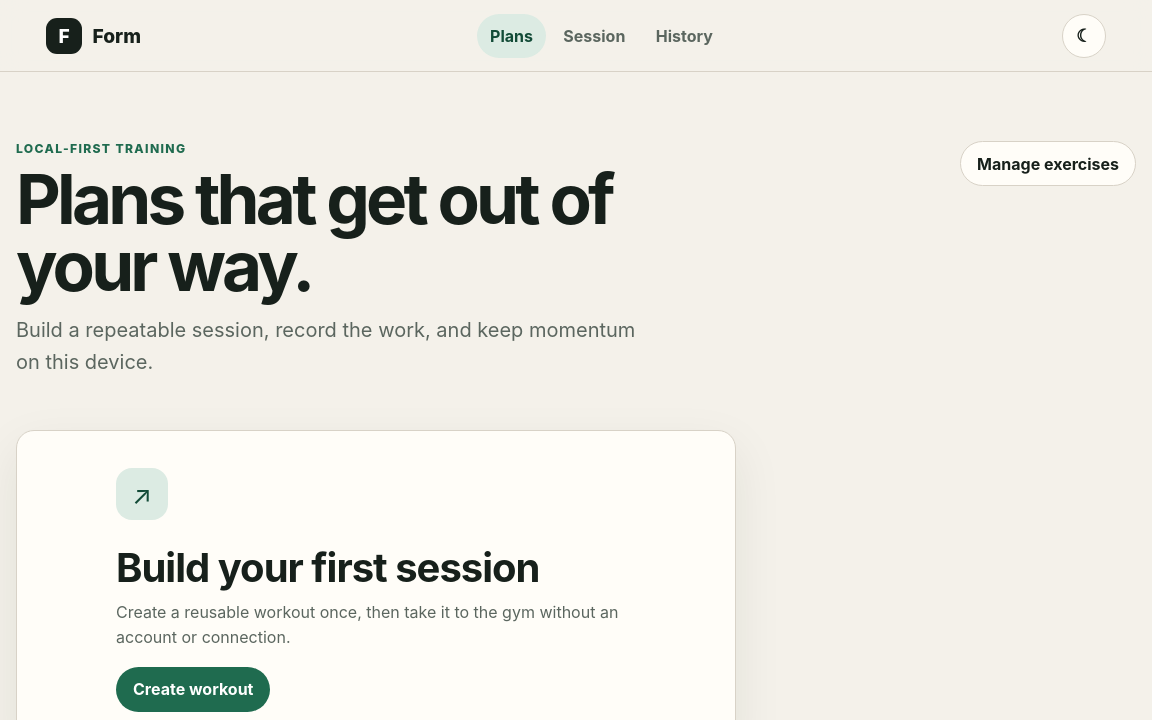
Plans — US1: Plan a workout › [T018] plank shows duration input not reps input
Expected: the heading "Build your first session" is shown, [116, 542, 540, 592]
Click the button "Create workout" at (193,689), box [116, 667, 270, 712]
(page scrolled)
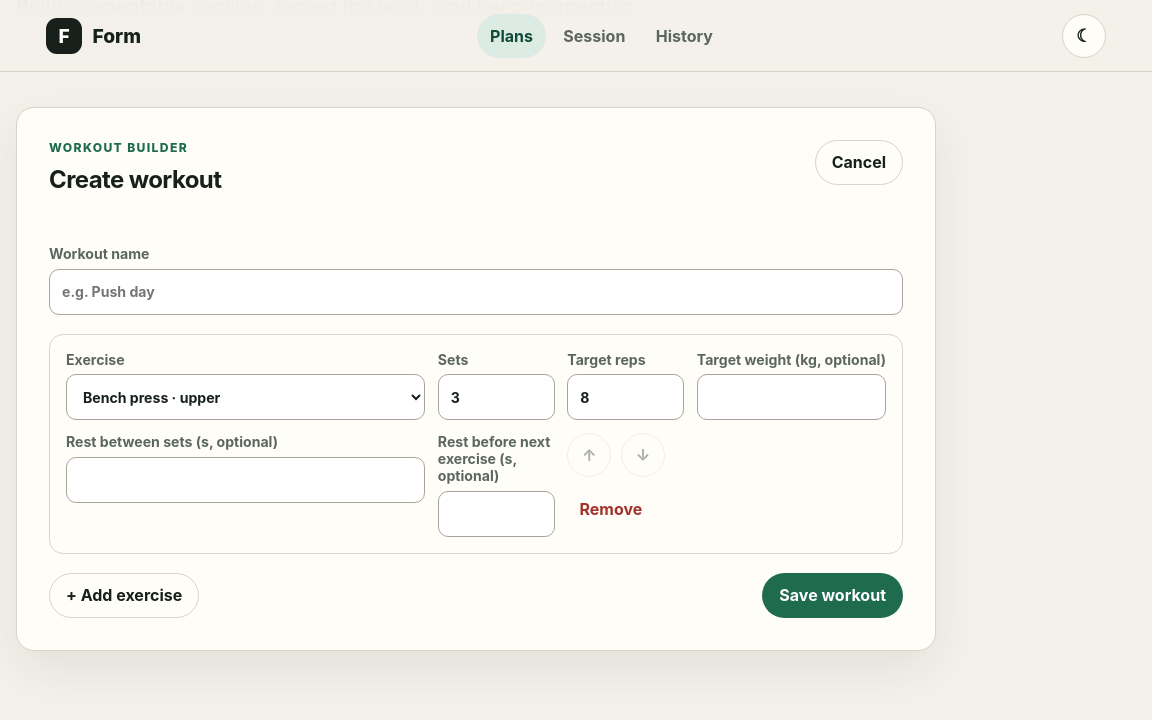
Note: Change exercise to plank
Select "Plank · core" in the dropdown labelled "Exercise" at (246,397), box [66, 374, 425, 420]
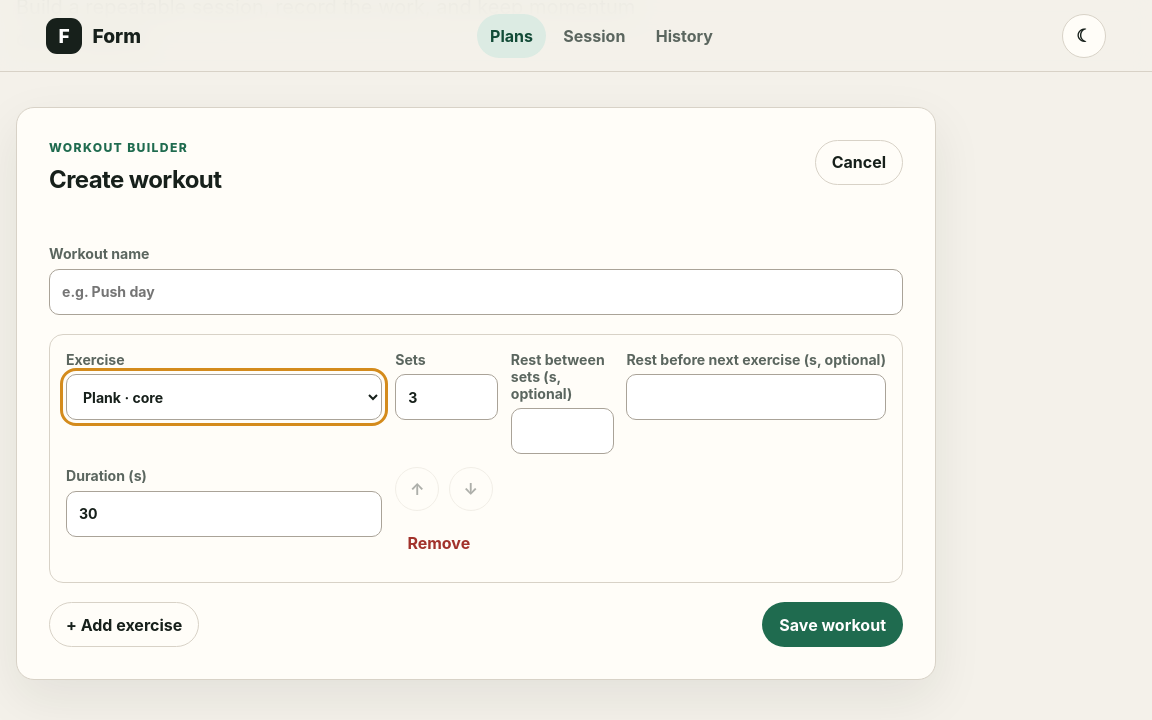
Now the number field labelled "Duration (s)" is shown
Now the text labelled "Target reps" is gone
Note: Enter duration and save
Replace the text in the number field labelled "Duration (s)" with "60" at (224,514), box [66, 491, 382, 537]
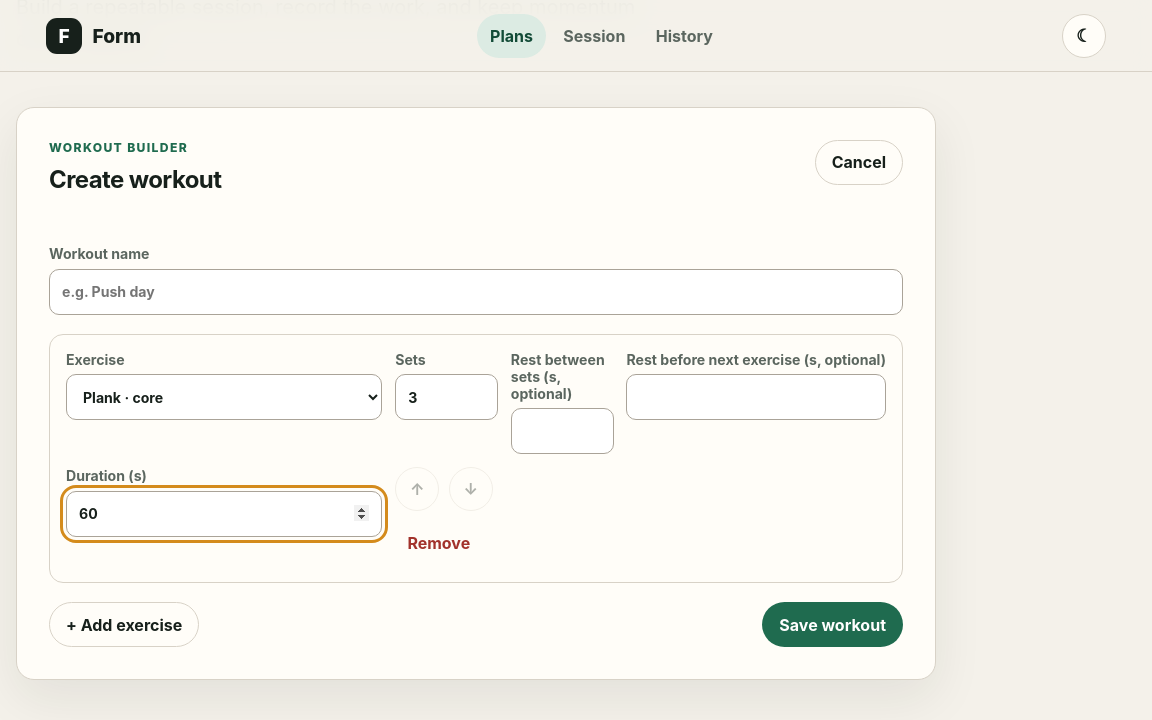
Type "Core day" into the field with placeholder "e.g. Push day" at (476,292), box [49, 269, 903, 315]
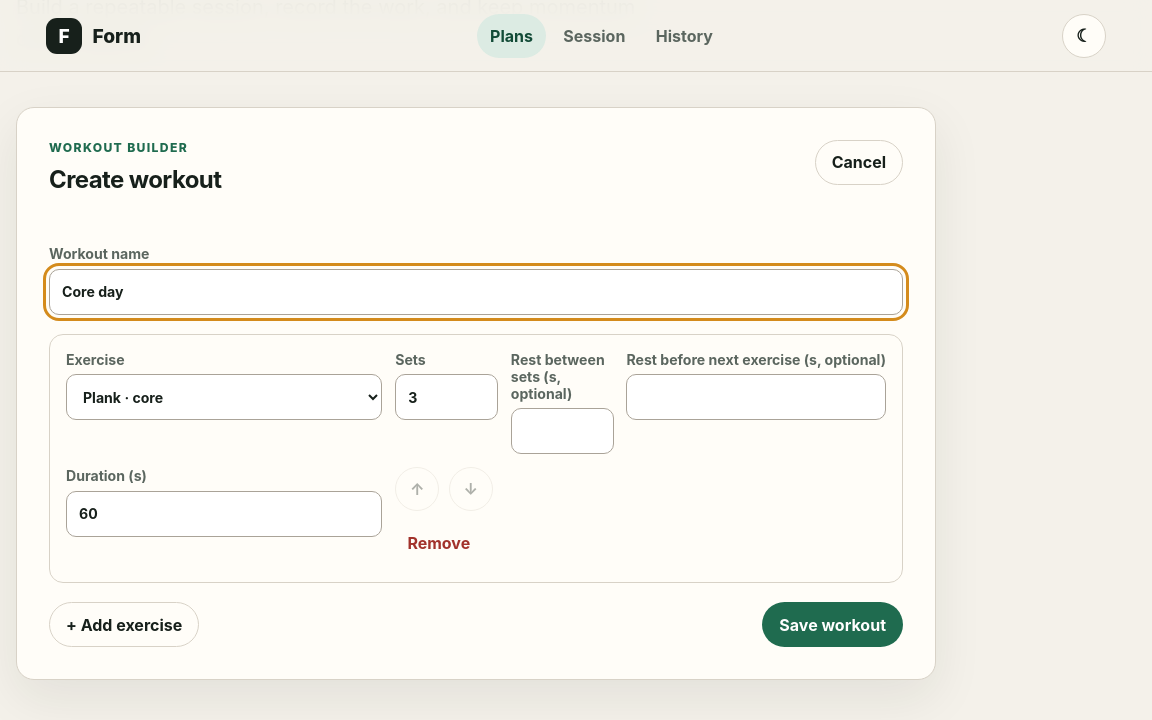
Click the button "Save workout" at (833,624), box [762, 602, 903, 647]
(page scrolled)
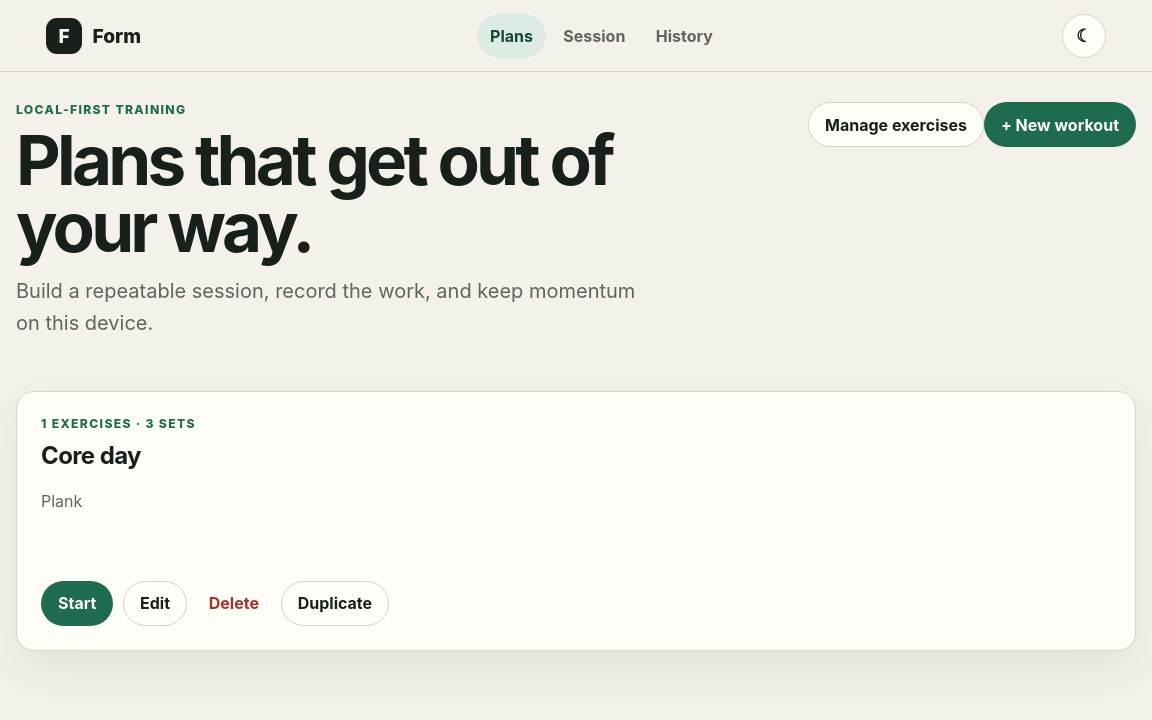
Now the heading "Core day" is shown, box [41, 441, 141, 470]
Note: Edit and verify duration persists
Click the button "Edit" at (155,603), box [123, 581, 187, 626]
(page scrolled)
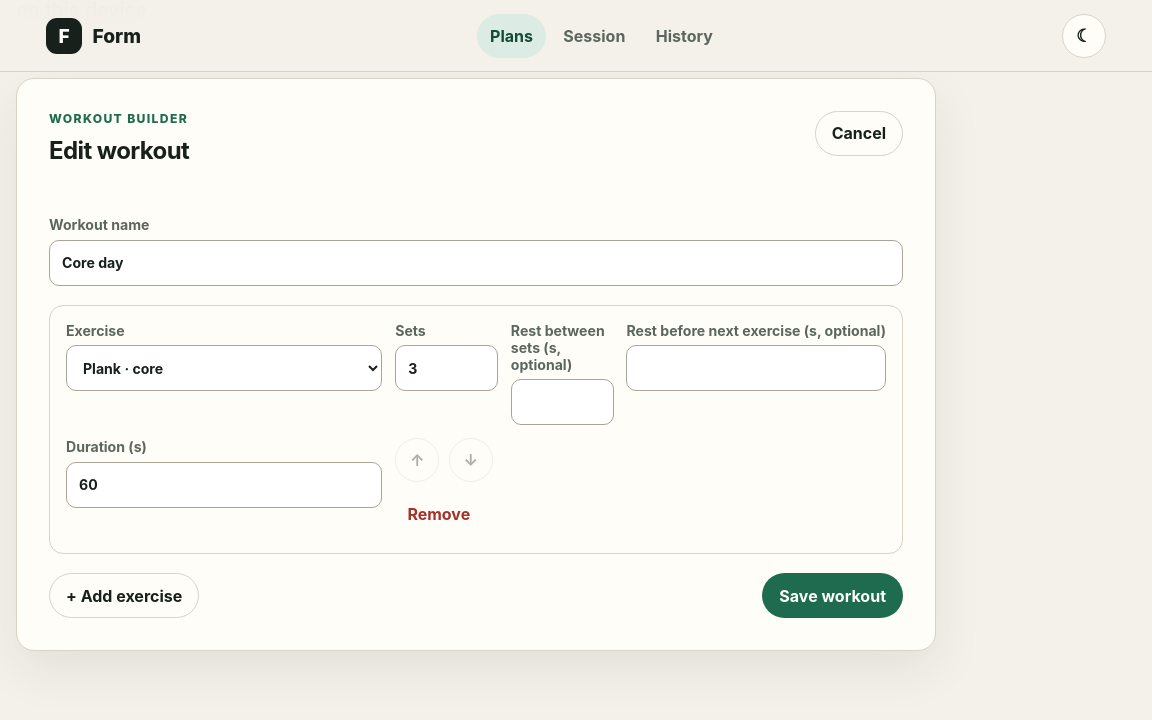
Now the number field labelled "Duration (s)" holds "60", box [66, 462, 382, 508]
